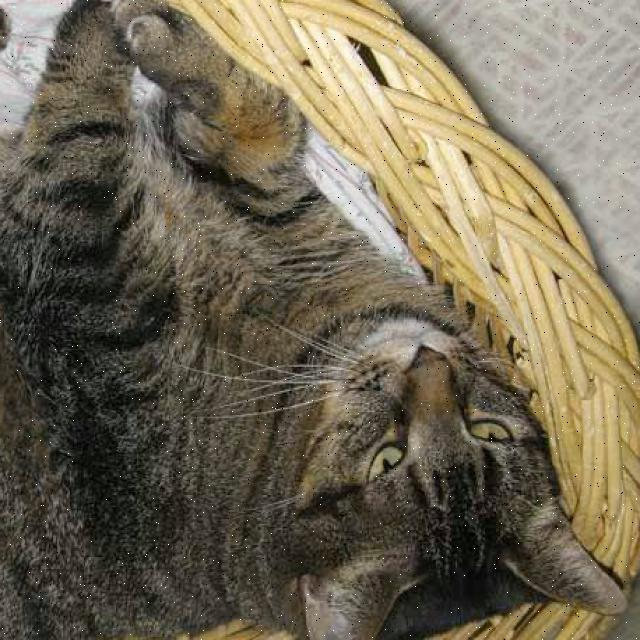Cat: (248, 303, 626, 632)
